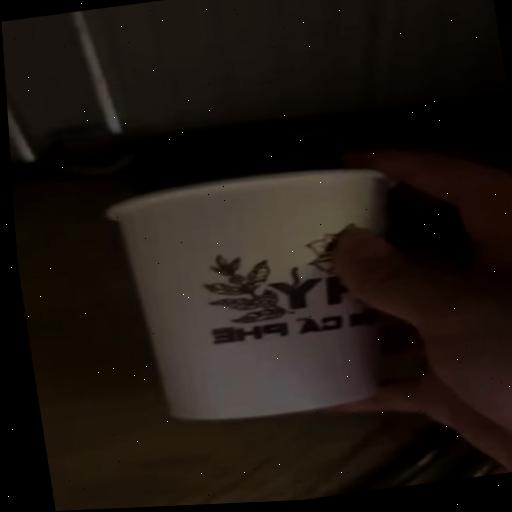ly_giay: (109, 168, 389, 419)
